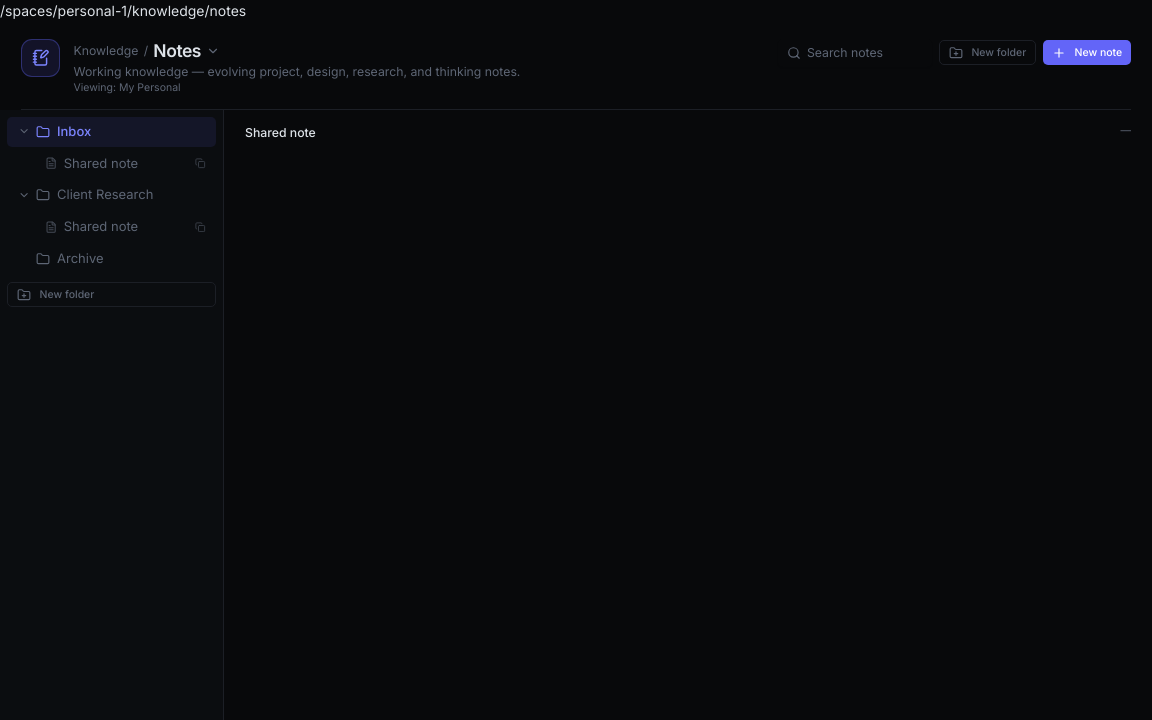
Scenario: Knowledge routing › offers move-or-delete when the server refuses to remove a note's last owning entry
This screenshot has width=1152, height=720.
Right-click the 1st button "Shared note" at (112, 163), box [10, 150, 212, 176]
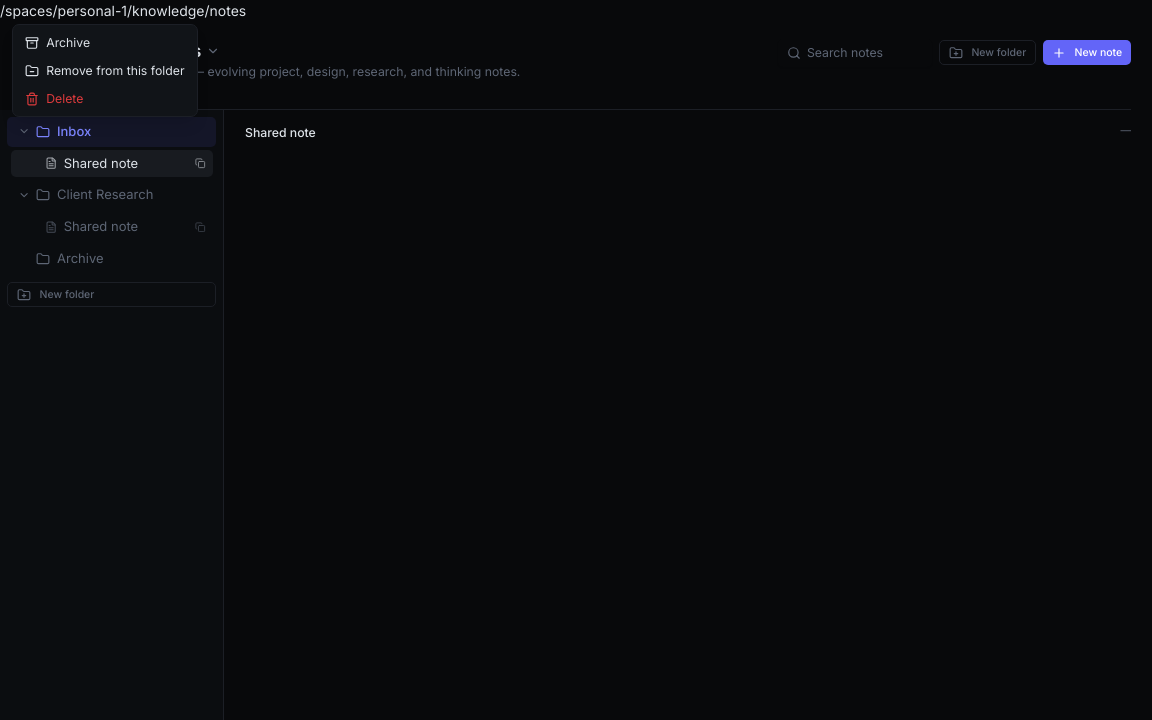
Click the menu item "Remove from this folder" at (105, 70), box [16, 56, 193, 84]
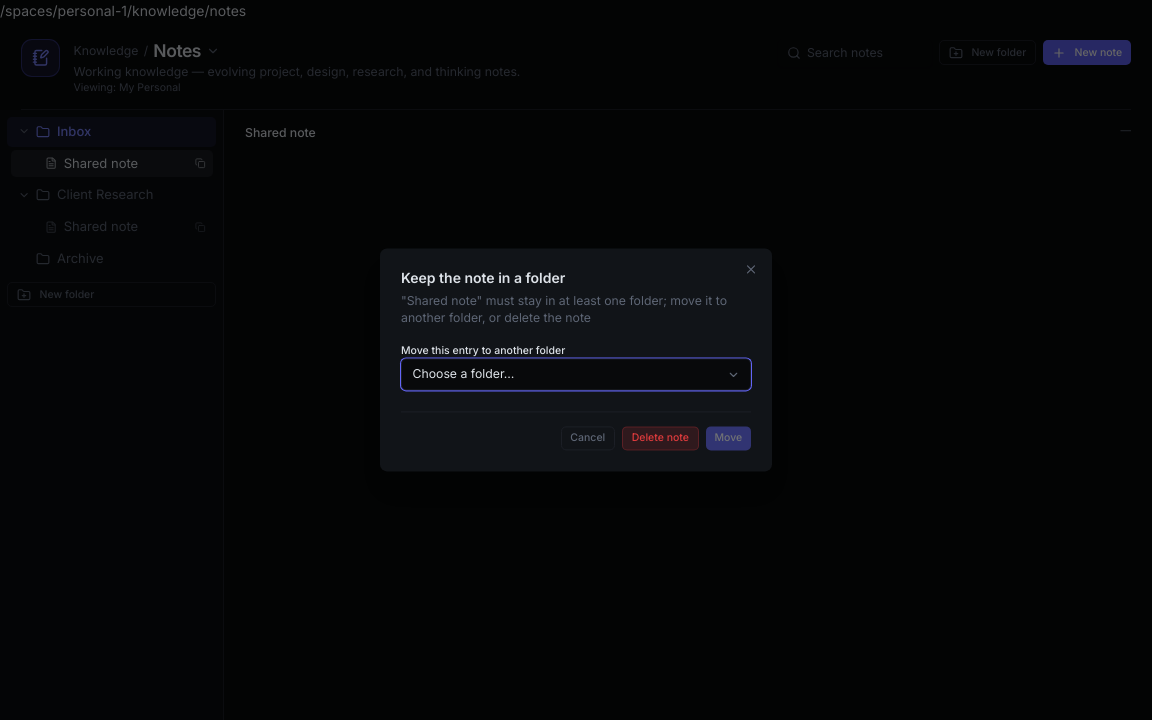
Expected: the text "must stay in at least one folder" is shown, [401, 293, 727, 326]
Expected: the button "Delete note" is shown, [622, 426, 699, 451]
Expected: the button "Move" is disabled, [706, 426, 751, 451]
